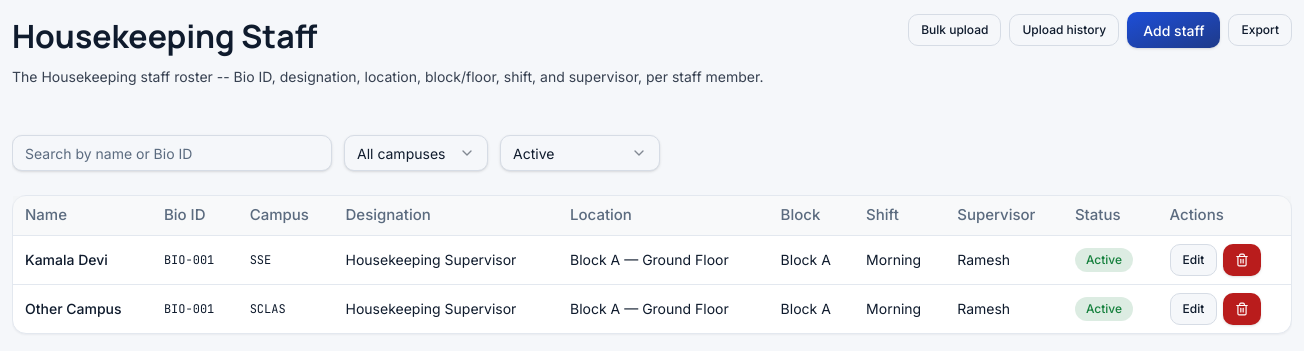
Test: HousekeepingStaffListPage › narrows the list with the campus filter (global-scope role only)
The width and height of the screenshot is (1304, 351).
Expected: the text "Other Campus" is shown, [13, 284, 152, 332]
Click the dropdown named "Campus filter" at (416, 153), box [344, 135, 488, 171]
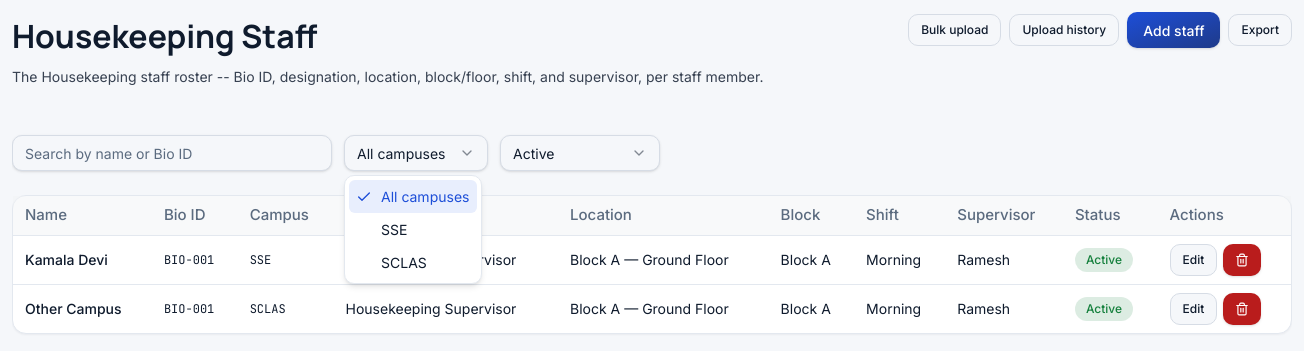
Click the option "SSE" at (394, 230), box [381, 221, 407, 238]
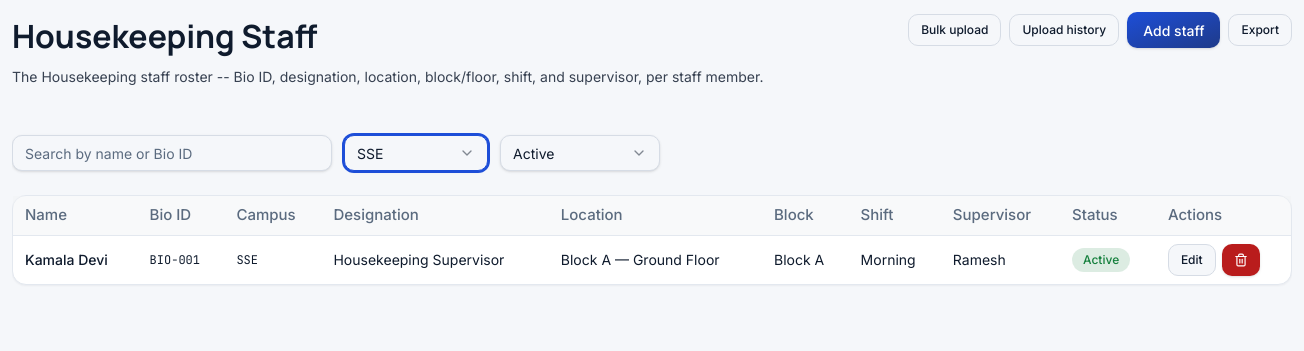
Expected: the text "Kamala Devi" is shown, [13, 235, 138, 284]
Result: the text "Other Campus" is gone
